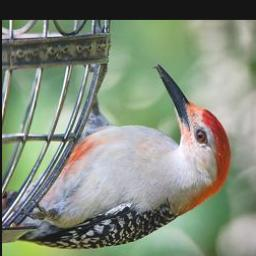Woodpecker: (3, 65, 231, 251)
